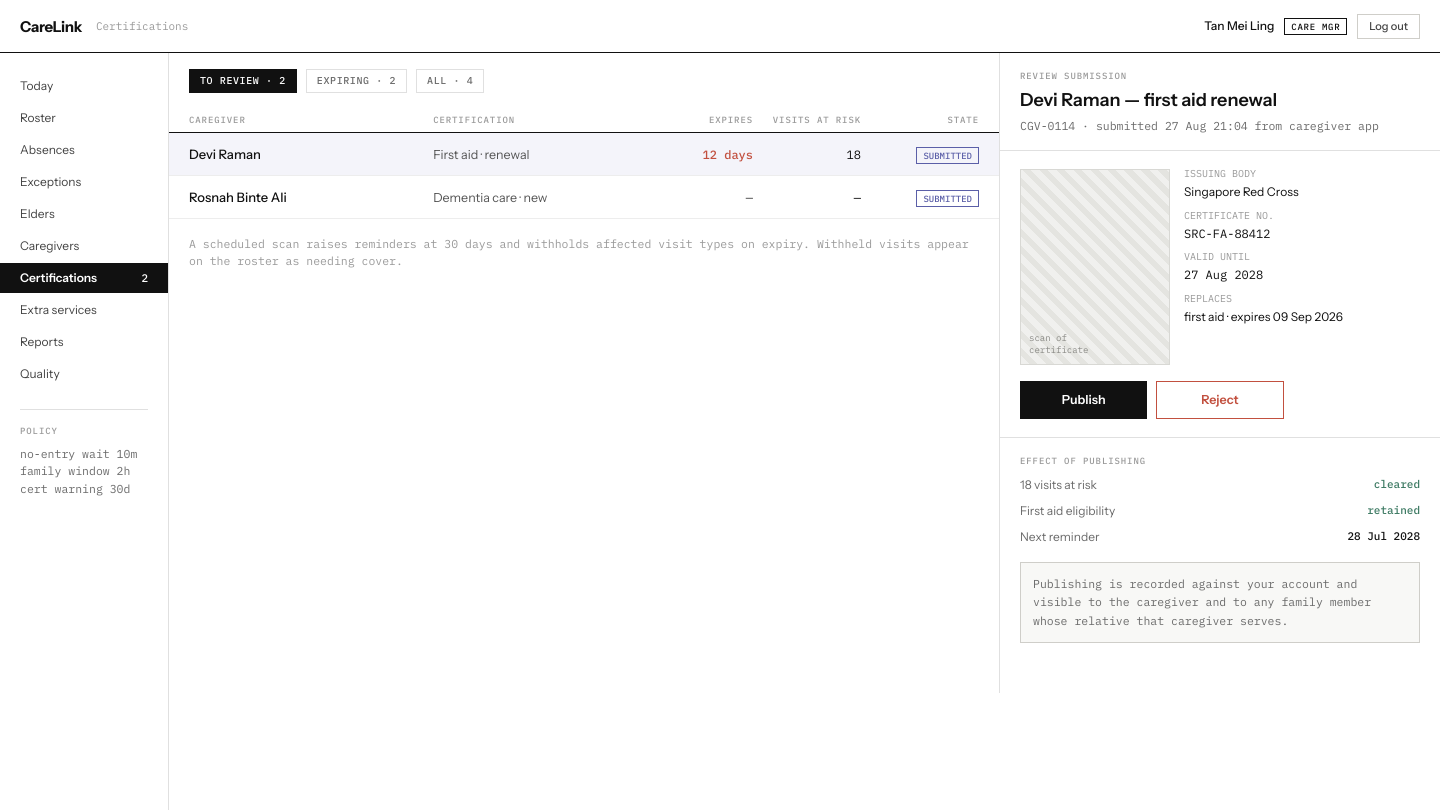
Test: needs a reason to reject
expect the heading "Devi Raman — first aid renewal" is shown: met, box [1020, 89, 1277, 111]
Click the button "Reject". click: (1220, 400)
box: [1156, 381, 1284, 419]
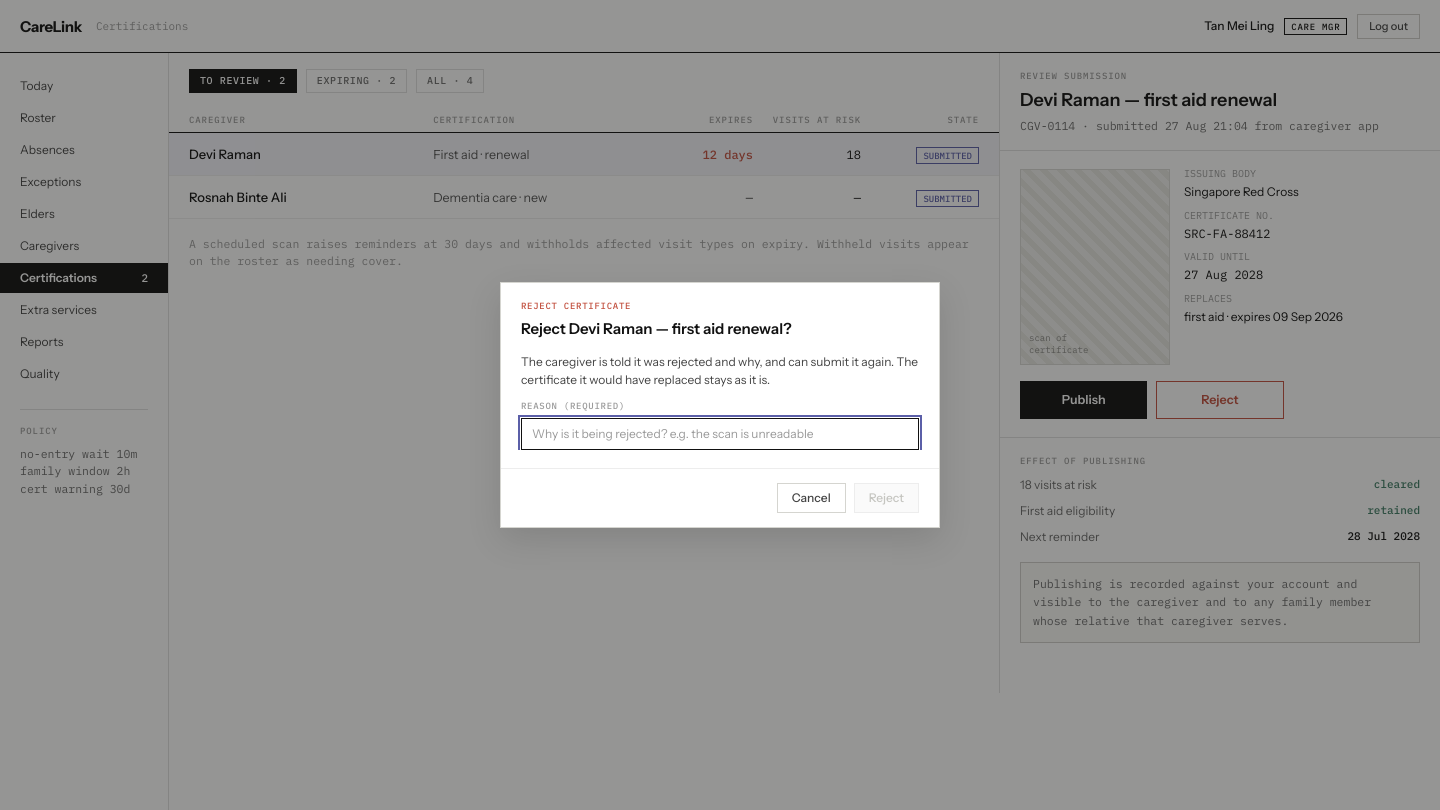
expect the button "Reject" is disabled: met, box [854, 483, 919, 513]
Type "Issuer is not accredited" into the field labelled "Reason (required)". click: (720, 434)
box: [521, 418, 919, 450]
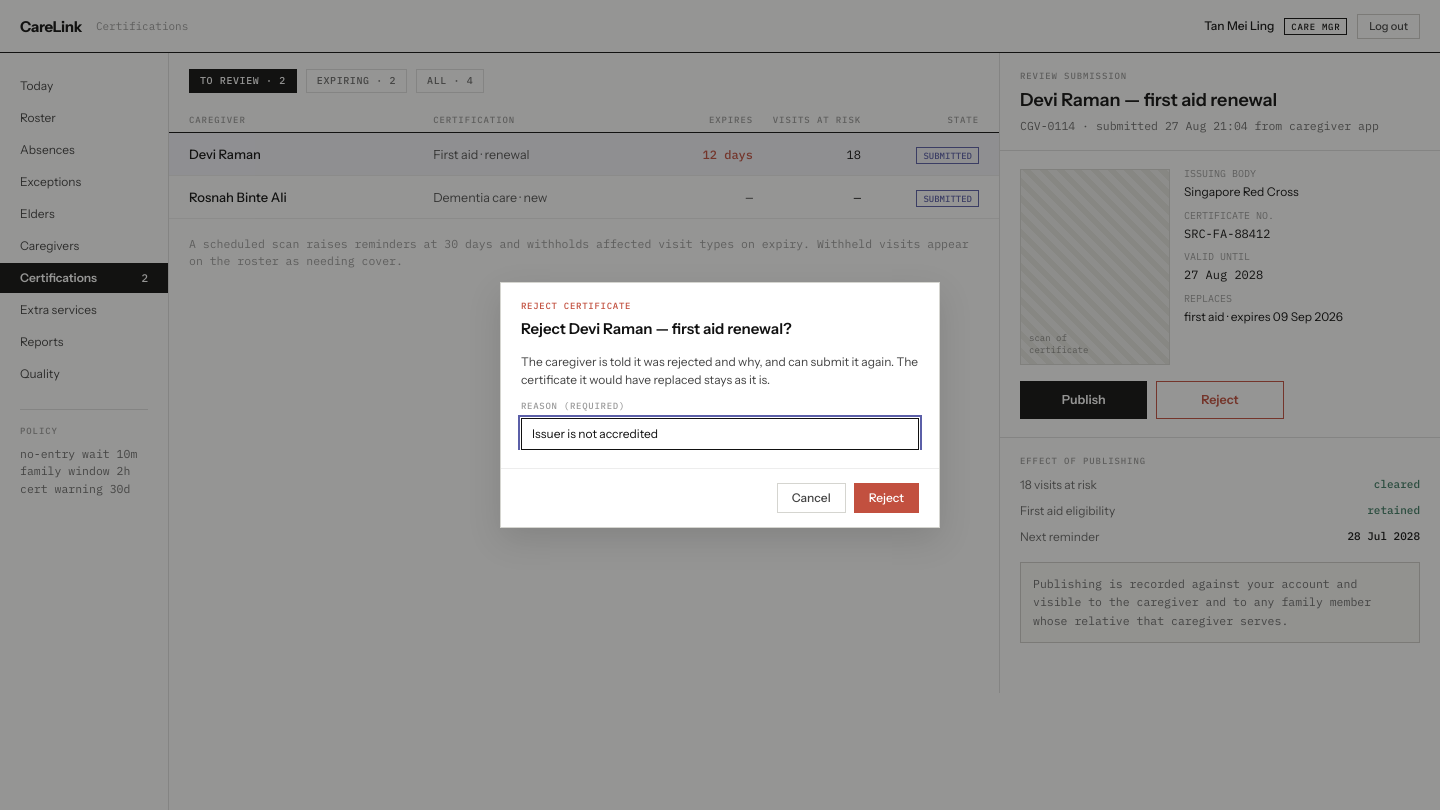
Click the button "Reject". click: (886, 498)
box: [854, 483, 919, 513]
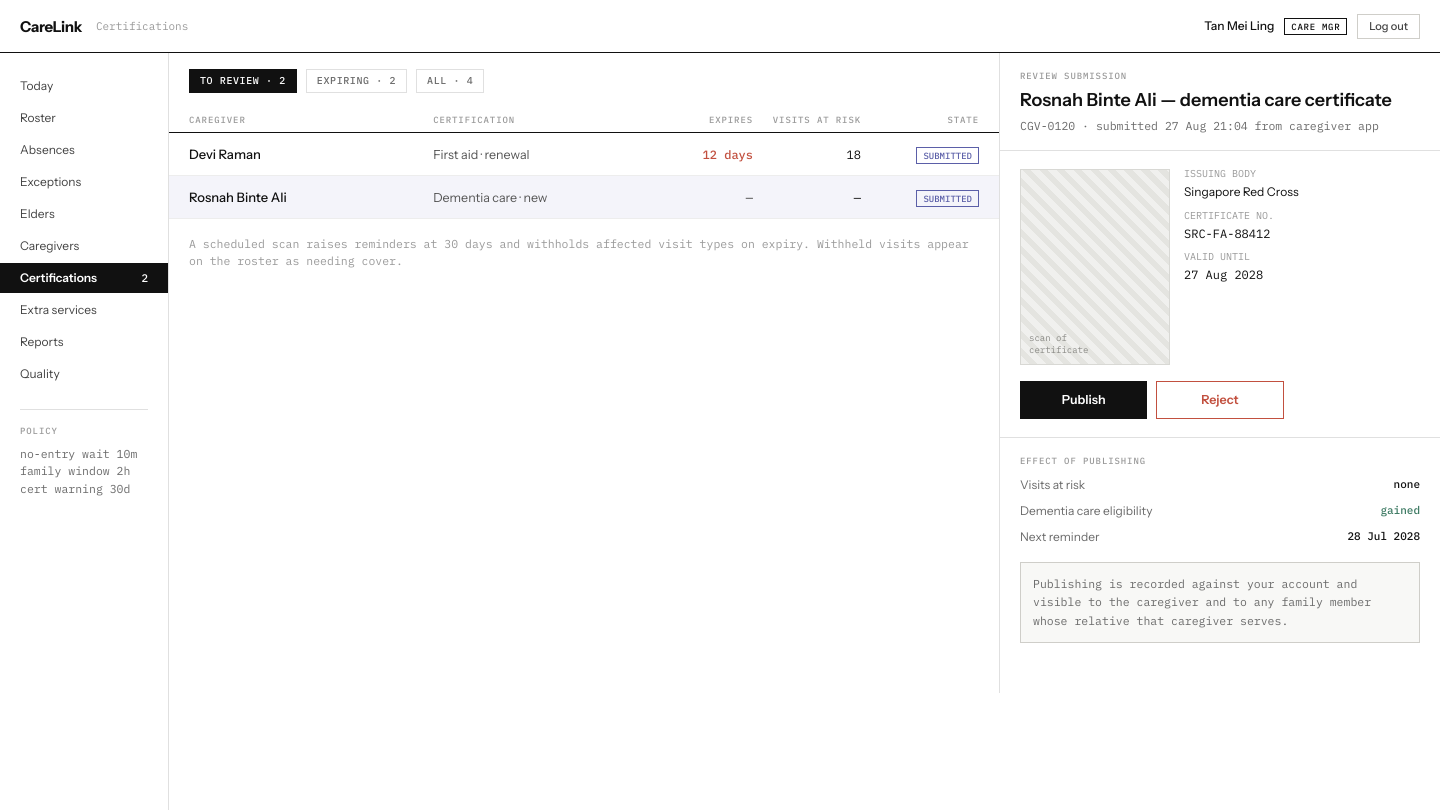
expect the dialog is gone: met
